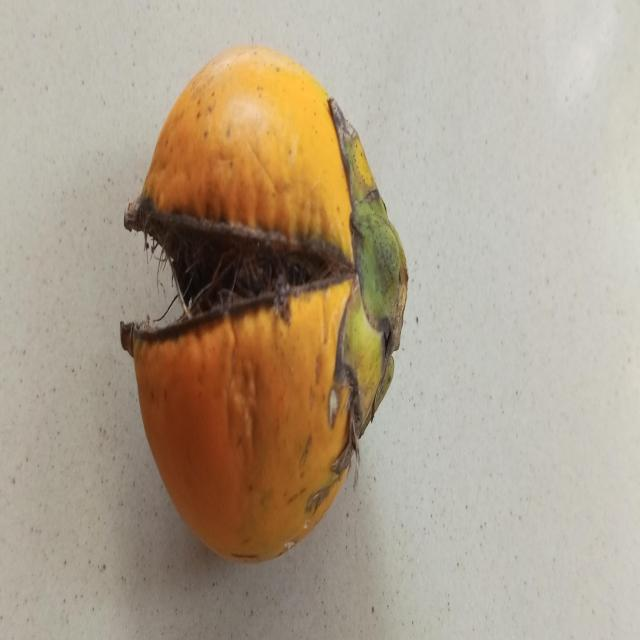damaged: (121, 47, 408, 561)
